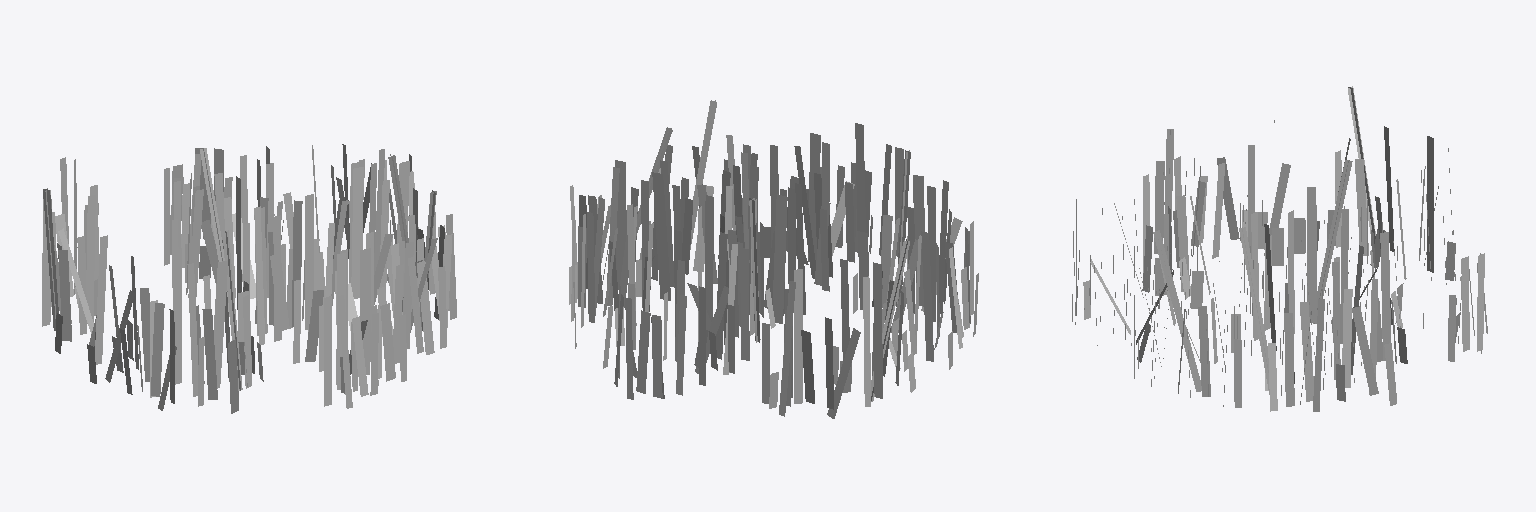
File: Trava Kolosok-opti.obj
The picture shows the model from 3 angles: view 1: azimuth 30°, elevation 25°; view 2: azimuth 150°, elevation 25°; view 3: azimuth 270°, elevation 25°; orthographic projection.
Visible parts, largest first — view 1: Trava_Kolosok-opti_Trava_Kolosok; view 2: Trava_Kolosok-opti_Trava_Kolosok; view 3: Trava_Kolosok-opti_Trava_Kolosok.
Boxes of the visible parts, x1,y1,x2,y2 form: Trava_Kolosok-opti_Trava_Kolosok: [42, 144, 456, 413]; Trava_Kolosok-opti_Trava_Kolosok: [569, 100, 978, 418]; Trava_Kolosok-opti_Trava_Kolosok: [1072, 86, 1487, 411].
Bounding box in the file's own units: 765 × 360 × 780.